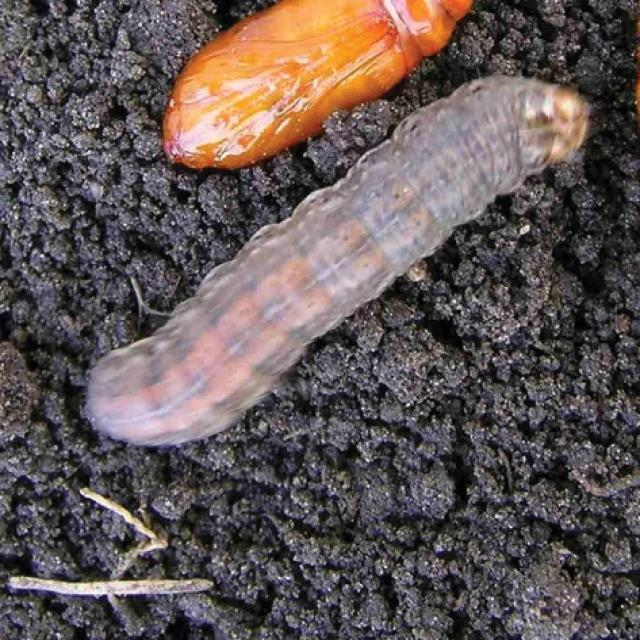worm: (81, 71, 594, 450)
